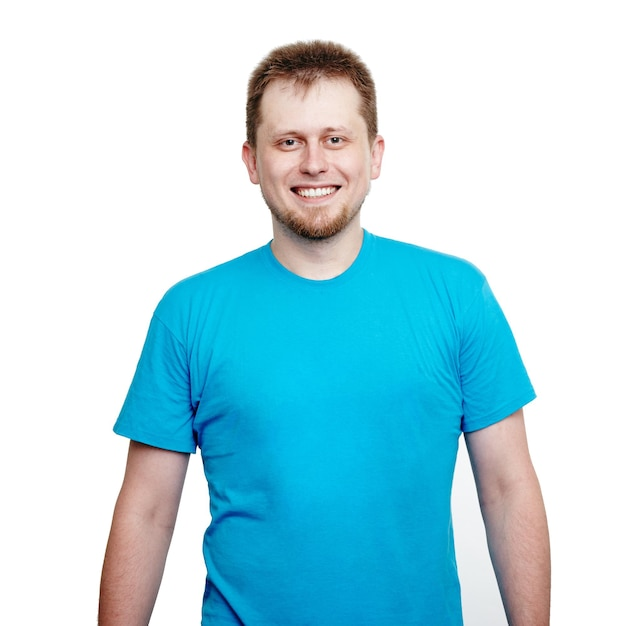young: (238, 40, 392, 241)
